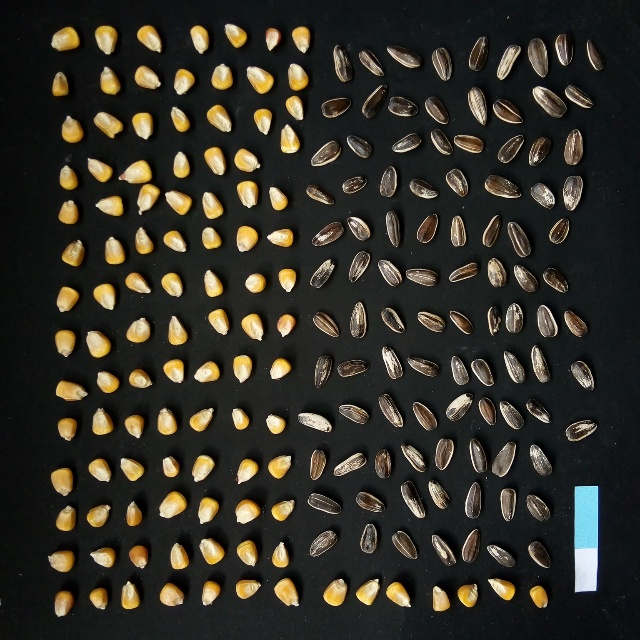escala: (575, 485, 598, 592)
girasol: (330, 441, 369, 482), (526, 82, 566, 120), (394, 478, 428, 520), (556, 173, 592, 212), (489, 438, 520, 482), (375, 390, 407, 431), (492, 41, 522, 84), (560, 124, 589, 168), (357, 82, 388, 123), (505, 219, 536, 260), (478, 172, 523, 200), (525, 440, 557, 479), (396, 438, 429, 475), (462, 84, 491, 126), (426, 531, 458, 569), (524, 35, 551, 80), (459, 477, 486, 522), (342, 248, 373, 287), (524, 535, 555, 574), (307, 257, 340, 293), (304, 490, 346, 518), (376, 343, 406, 382), (463, 432, 490, 475), (307, 137, 342, 170), (385, 41, 424, 70), (427, 44, 456, 83), (498, 346, 527, 385), (430, 434, 459, 473), (492, 130, 525, 164), (306, 527, 341, 559), (446, 258, 482, 289), (489, 97, 526, 127), (563, 414, 600, 444), (414, 210, 443, 248), (528, 344, 554, 386), (421, 93, 454, 126), (525, 178, 558, 211), (523, 492, 556, 525), (310, 308, 344, 340), (408, 399, 440, 433), (581, 35, 608, 75), (309, 218, 345, 248), (567, 356, 597, 392), (443, 390, 475, 423), (389, 528, 421, 561), (413, 307, 447, 338), (446, 303, 477, 337), (330, 43, 355, 85), (466, 33, 491, 75), (483, 541, 519, 570), (483, 254, 510, 292), (533, 302, 560, 340), (405, 354, 443, 381), (382, 209, 407, 250), (458, 524, 483, 565), (442, 166, 473, 199), (376, 304, 409, 335), (468, 355, 498, 389), (425, 475, 453, 511), (553, 30, 578, 70), (310, 351, 335, 391), (543, 215, 574, 247), (373, 258, 405, 289), (560, 308, 591, 340), (510, 262, 540, 295), (521, 395, 554, 425), (295, 408, 333, 434), (304, 446, 330, 484), (351, 488, 389, 514), (494, 485, 520, 523), (319, 93, 354, 121), (503, 299, 528, 338), (388, 130, 424, 157), (403, 265, 443, 289), (346, 299, 370, 339), (356, 46, 385, 79), (539, 267, 574, 294), (335, 401, 372, 426), (377, 162, 400, 202), (303, 182, 338, 208), (527, 135, 555, 167), (406, 175, 440, 201), (426, 127, 454, 158), (371, 445, 395, 481), (387, 94, 420, 120), (480, 211, 502, 250), (335, 356, 372, 379), (447, 352, 470, 389), (474, 395, 499, 429), (344, 212, 372, 242), (344, 133, 375, 160), (497, 400, 524, 430), (356, 521, 380, 554), (483, 302, 504, 338), (452, 133, 486, 155), (447, 214, 469, 248), (339, 173, 371, 196)
maiz: (242, 62, 277, 97), (156, 488, 191, 522), (203, 101, 236, 136), (161, 312, 193, 348), (130, 183, 163, 217), (91, 109, 126, 141), (116, 156, 155, 184), (271, 576, 304, 609), (382, 579, 415, 612), (131, 62, 165, 94), (155, 268, 187, 301), (134, 21, 165, 55), (185, 21, 214, 57), (49, 24, 82, 55), (58, 236, 89, 269), (83, 327, 114, 360), (197, 535, 228, 568), (57, 112, 87, 146), (162, 188, 196, 218), (227, 353, 257, 387), (46, 464, 76, 498), (199, 143, 228, 178), (194, 493, 223, 528), (89, 281, 120, 313), (186, 404, 218, 435), (95, 63, 124, 97), (170, 65, 199, 99), (229, 146, 264, 174), (220, 20, 251, 51), (197, 189, 227, 221), (232, 179, 262, 211), (321, 576, 351, 608), (204, 305, 233, 338), (189, 452, 218, 485), (485, 574, 518, 603), (288, 23, 316, 57), (153, 403, 180, 438), (118, 578, 145, 613), (52, 378, 91, 402), (85, 545, 121, 571), (283, 61, 313, 92), (84, 155, 115, 185), (124, 315, 155, 345), (233, 497, 263, 528), (207, 61, 236, 93), (199, 267, 228, 299), (130, 110, 158, 143), (275, 122, 303, 155), (191, 359, 224, 387), (44, 547, 77, 575), (355, 575, 382, 609), (117, 455, 148, 484), (265, 452, 296, 481), (238, 311, 266, 343), (94, 23, 120, 57), (52, 326, 78, 360), (165, 104, 194, 134), (159, 226, 189, 255), (232, 223, 260, 254), (54, 284, 82, 315), (160, 356, 188, 387), (156, 580, 187, 608), (121, 270, 153, 297), (250, 104, 275, 138), (84, 501, 113, 530), (269, 496, 299, 524), (233, 538, 261, 568), (455, 580, 483, 610), (166, 541, 193, 572), (121, 498, 147, 530), (92, 193, 125, 218), (102, 234, 127, 267), (268, 537, 293, 570), (262, 226, 296, 250), (280, 94, 308, 123), (196, 224, 224, 253), (85, 456, 114, 484), (93, 368, 123, 395), (197, 579, 224, 609), (427, 584, 454, 614), (89, 406, 115, 437), (121, 411, 147, 441), (235, 456, 261, 486), (126, 541, 152, 571), (125, 366, 156, 391), (52, 589, 77, 620), (132, 225, 156, 257), (275, 266, 302, 294), (56, 198, 82, 227), (265, 184, 291, 213), (273, 311, 299, 340), (226, 406, 255, 432), (53, 504, 79, 533), (56, 162, 81, 192), (233, 577, 264, 601), (169, 148, 192, 180), (268, 356, 295, 383), (526, 582, 552, 610), (53, 414, 78, 442), (87, 584, 112, 612), (260, 24, 283, 54), (263, 411, 289, 436), (49, 69, 71, 98), (243, 270, 268, 295), (158, 454, 183, 479)
